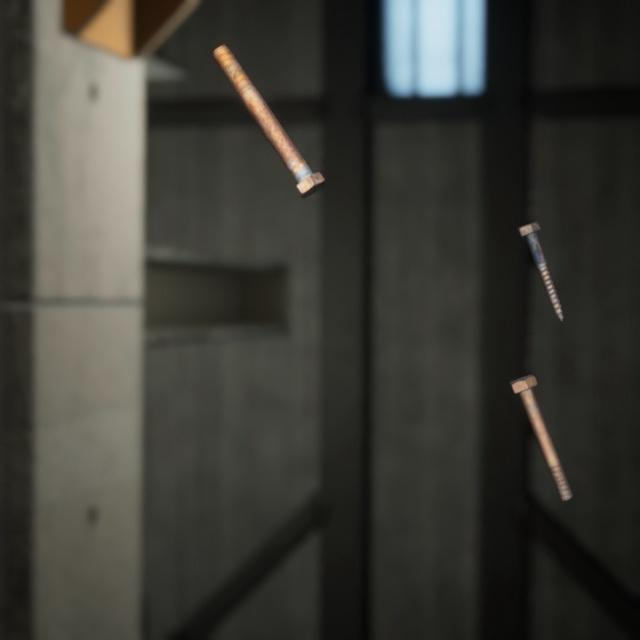bolt: (208, 27, 329, 189), (504, 349, 577, 485), (512, 200, 568, 309)
